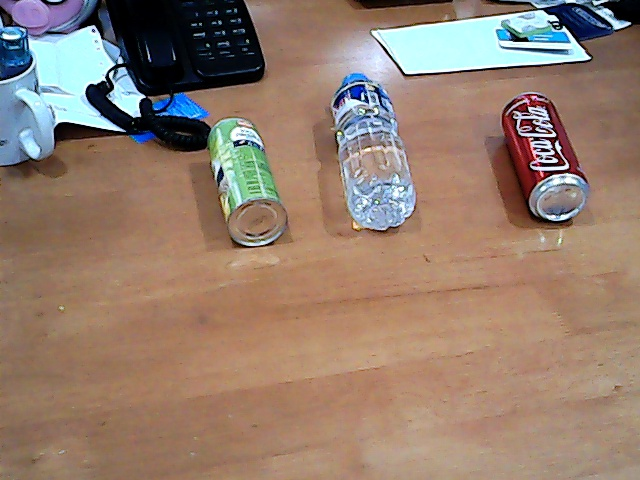Cola: (482, 81, 603, 234)
Pine Juice: (189, 102, 302, 273)
Summit Water: (312, 56, 429, 249)
